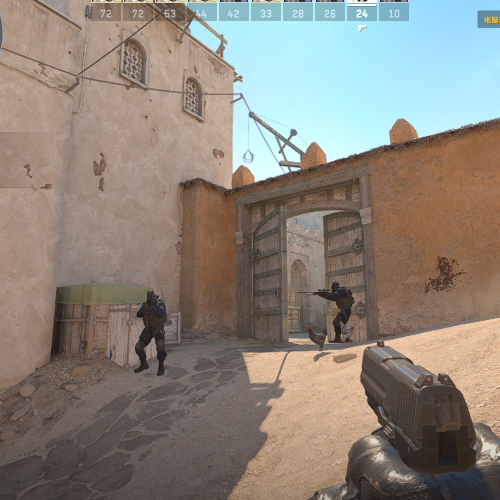chicken: (307, 328, 327, 351), (339, 320, 355, 343)
ct_body: (137, 289, 166, 376), (322, 281, 355, 343)
ct_head: (146, 290, 157, 303), (331, 282, 340, 293)
